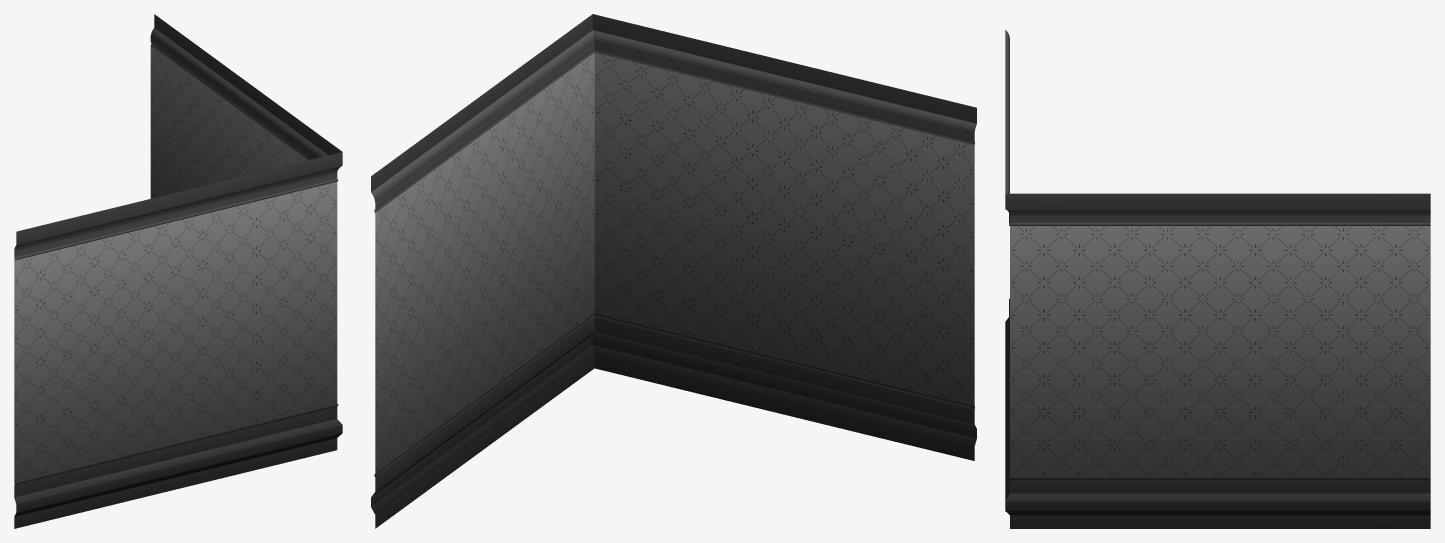
File: Wall_02_Ext_Long_Dark.fbx
The picture shows the model from 3 angles, left to right: view 1: azimuth 30°, elevation 25°; view 2: azimuth 150°, elevation 25°; view 3: azimuth 270°, elevation 25°; orthographic projection. The views are drawn at different scales.
Parts seen in each view (by area): view 1: Wall_02_Ext_Long_Dark; view 2: Wall_02_Ext_Long_Dark; view 3: Wall_02_Ext_Long_Dark.
Boxes of the visible parts, <box> form: Wall_02_Ext_Long_Dark: <box>14,14,342,528</box>; Wall_02_Ext_Long_Dark: <box>371,14,976,528</box>; Wall_02_Ext_Long_Dark: <box>1005,30,1430,528</box>.
Size of the model in its own units: 3.03 by 2.65 by 3.03.
